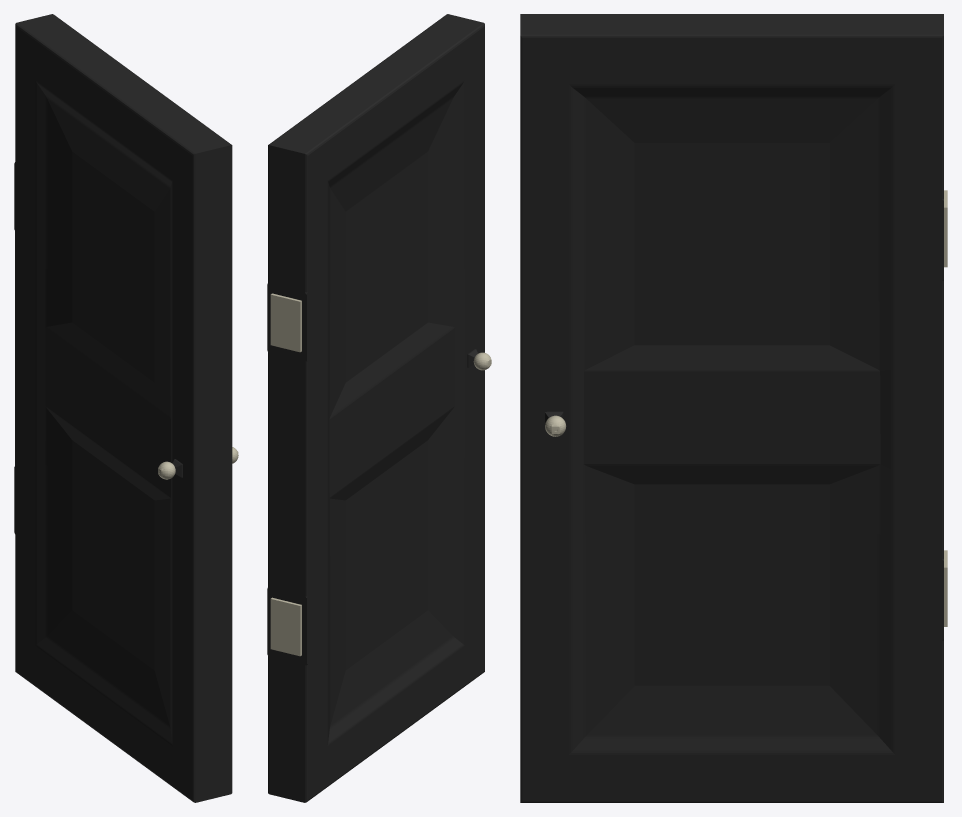
File: ModularDoor.fbx
The picture shows the model from 3 angles, left to right: view 1: azimuth 30°, elevation 25°; view 2: azimuth 150°, elevation 25°; view 3: azimuth 270°, elevation 25°; orthographic projection. The views are drawn at different scales.
Visible parts, largest first — view 1: Door; view 2: Door; view 3: Door.
Part boxes in pixels (bbox=[...]): Door: bbox=[14, 14, 238, 802]; Door: bbox=[267, 14, 491, 802]; Door: bbox=[520, 14, 947, 802].
Size of the model in its own units: 49.82 by 400 by 202.
